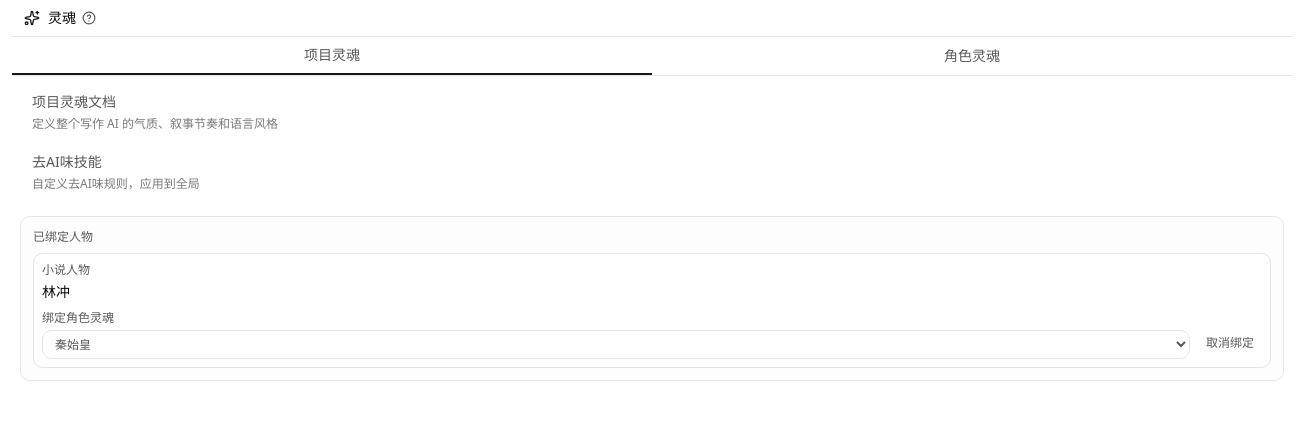
Test case: SoulSidebarPanel › 取消绑定失败（Error）→ 错误消息
The image size is (1304, 422).
expect the text "林冲" is shown: met, box [42, 282, 70, 301]
Click the button "取消绑定".
click(1230, 343)  # box [1198, 327, 1262, 359]
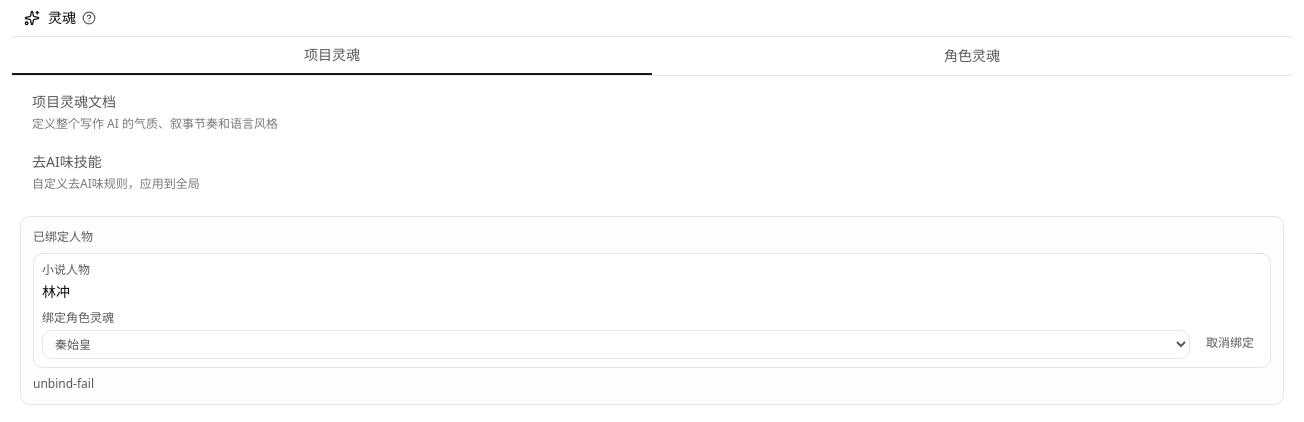
expect the text "unbind-fail" is shown: met, box [33, 375, 94, 392]
